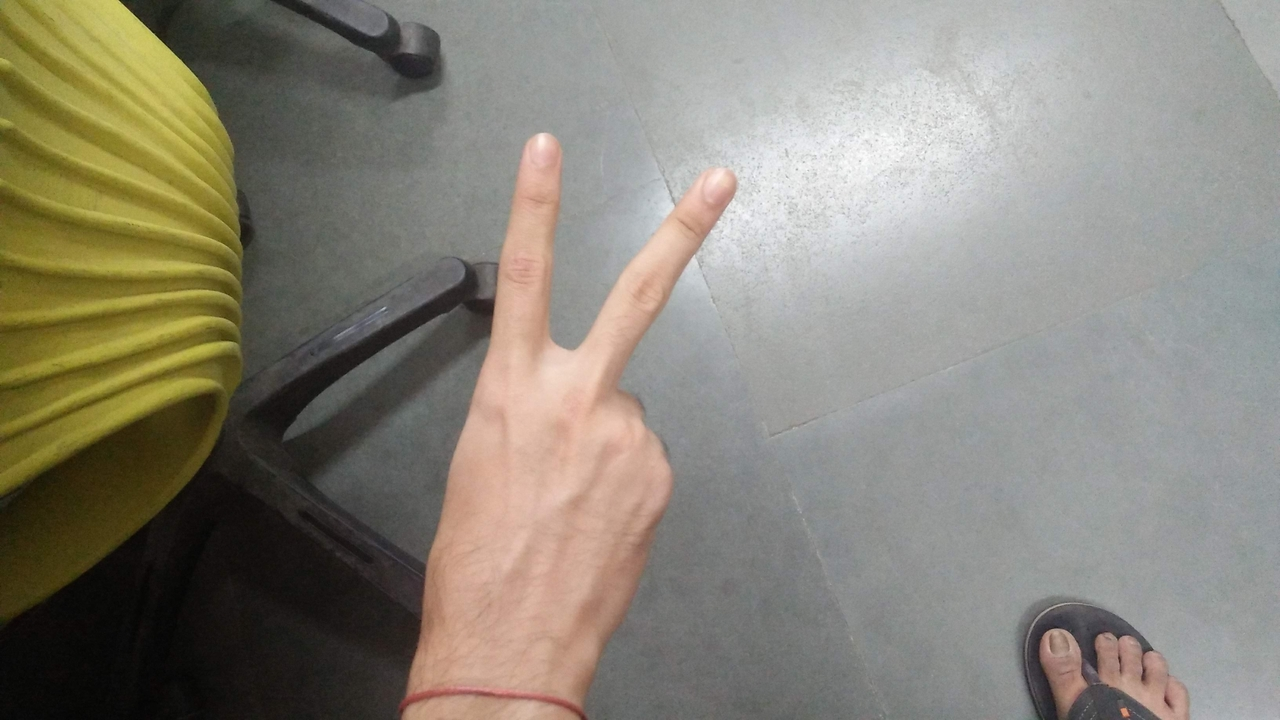fingertip: (684, 158, 748, 210), (508, 124, 566, 176)
